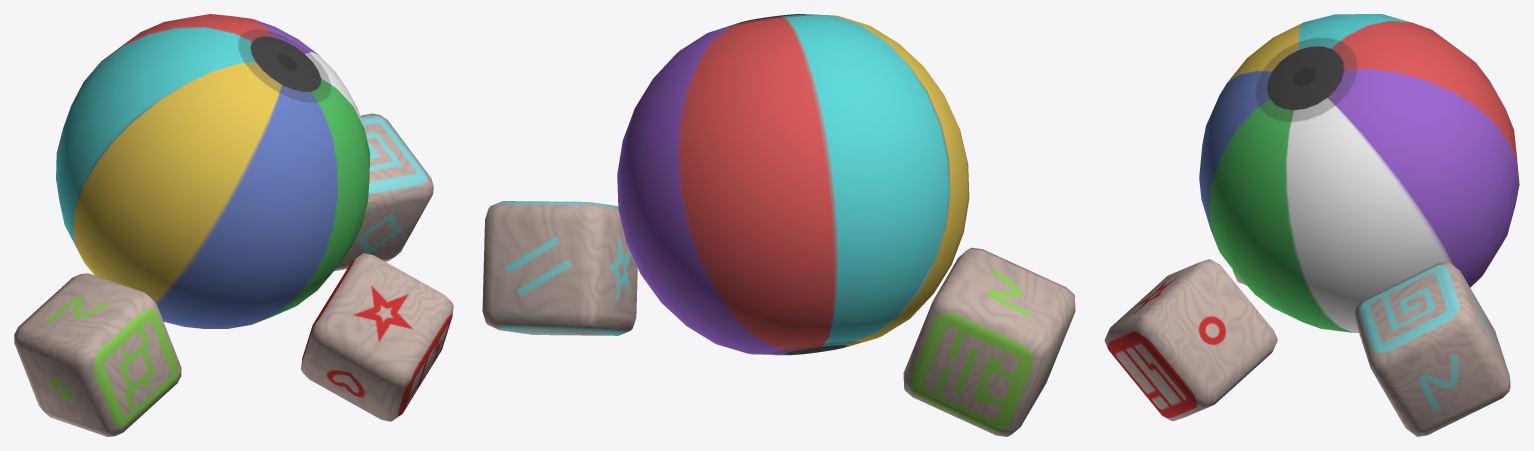
File: BabyToys.fbx
3 views of the same model, side by side, from view 1: azimuth 30°, elevation 25°; view 2: azimuth 150°, elevation 25°; view 3: azimuth 270°, elevation 25° (orthographic). The views are drawn at different scales.
Parts seen in each view (by area): view 1: mdlBabysToys; view 2: mdlBabysToys; view 3: mdlBabysToys.
Part boxes in pixels (<box>): mdlBabysToys: <box>14,14,453,436</box>; mdlBabysToys: <box>482,14,1075,436</box>; mdlBabysToys: <box>1104,14,1519,436</box>.
Size of the model in its own units: 5.49 by 4.09 by 4.38.
